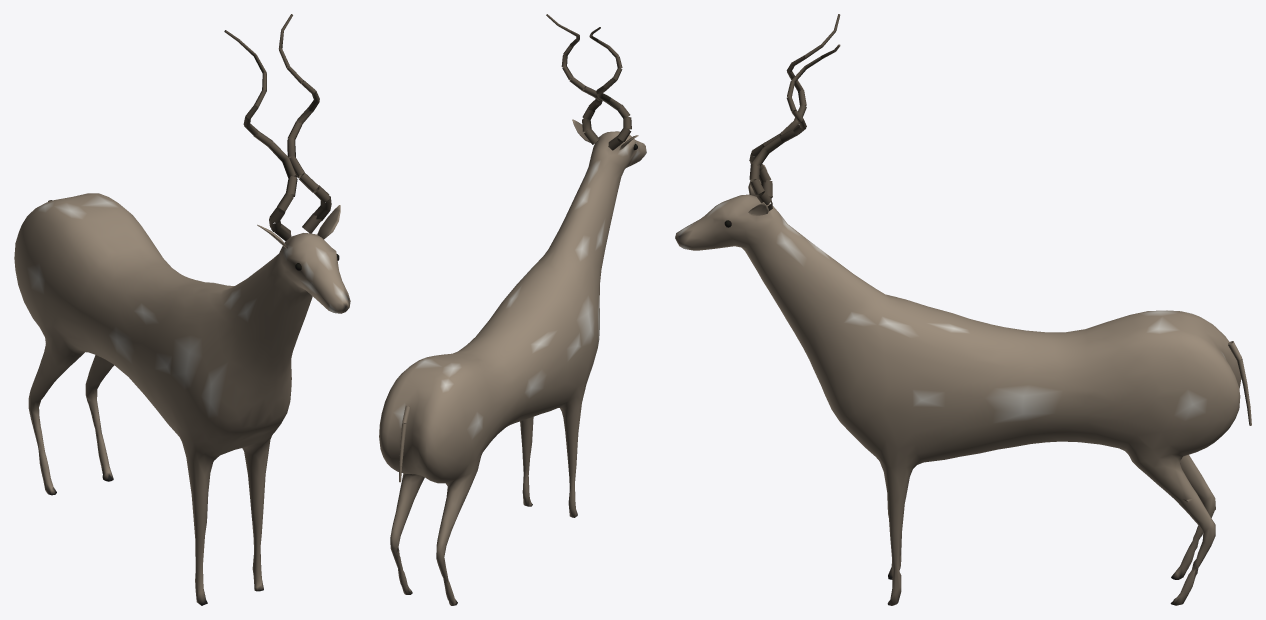
The model's file is kudu.glb.
3 renders of one model, left to right at view 1: azimuth 30°, elevation 25°; view 2: azimuth 150°, elevation 25°; view 3: azimuth 270°, elevation 25°, orthographic. The views are drawn at different scales.
Visible parts, largest first — view 1: lack; view 2: lack; view 3: lack.
Part boxes in pixels (x1,y1,x2,y2): lack: (14,14,350,605); lack: (379,14,646,605); lack: (675,14,1251,605).
Bounding box in the file's own units: 0.5102 × 2.88 × 2.67.
